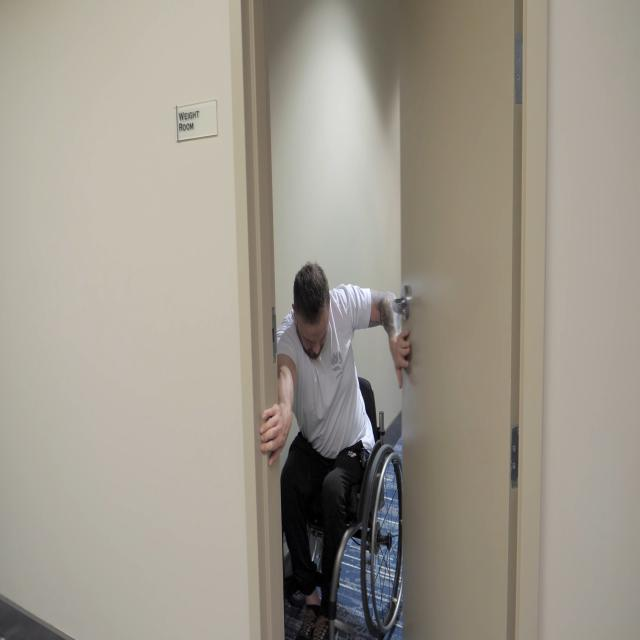wheelchairs: (272, 371, 410, 637)
